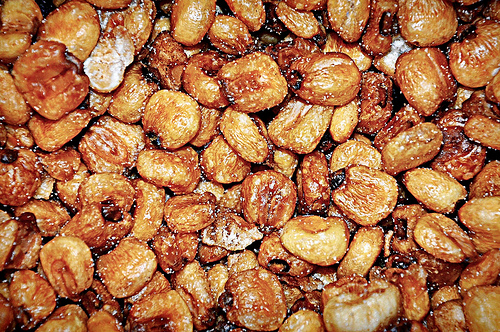corn: (0, 3, 497, 330)
